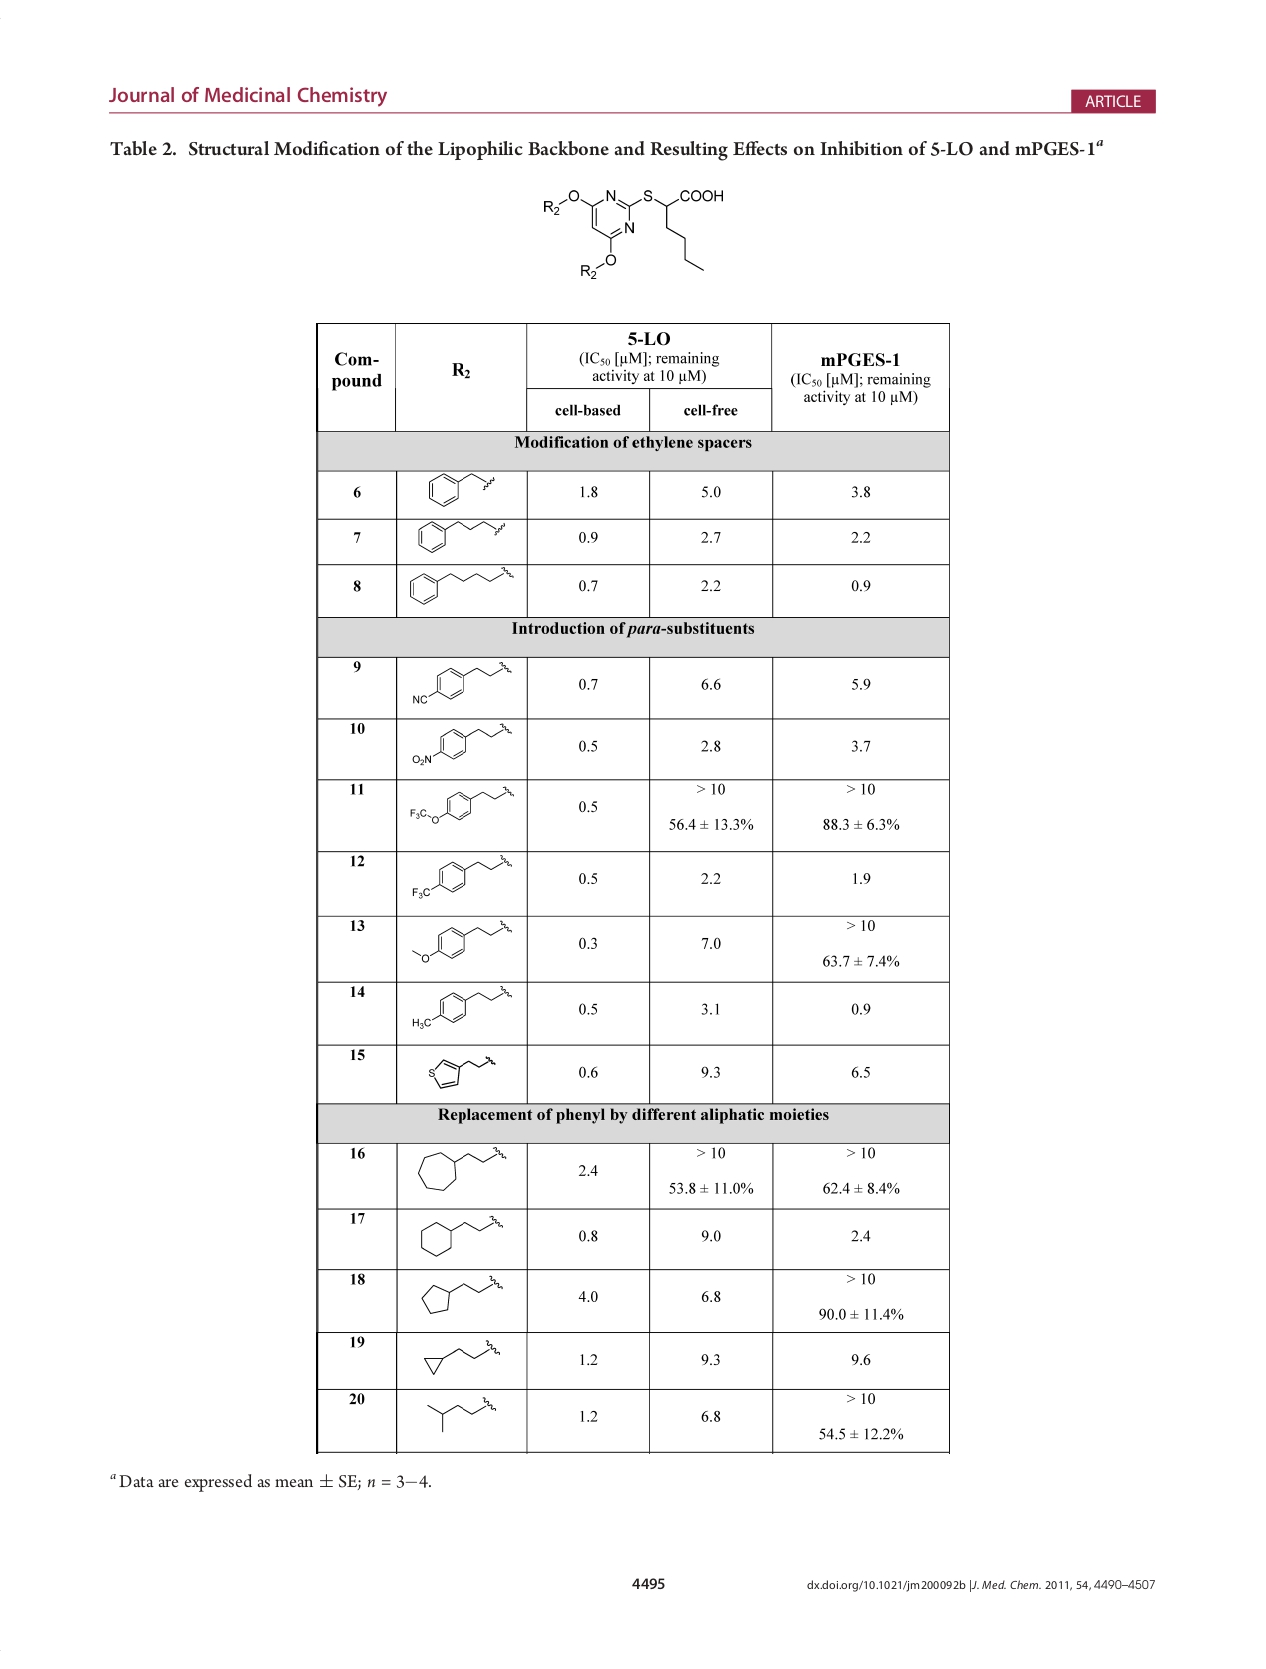exist_molecular: (539, 182, 726, 283), (410, 852, 511, 902), (410, 985, 513, 1032), (410, 660, 513, 705), (410, 785, 516, 829), (411, 723, 515, 767), (406, 567, 516, 608), (412, 922, 516, 964), (414, 1146, 509, 1192), (415, 1214, 507, 1261), (416, 1274, 507, 1318), (414, 519, 511, 556), (422, 1051, 500, 1094), (426, 1392, 501, 1435), (420, 1338, 501, 1376), (426, 471, 497, 509)
